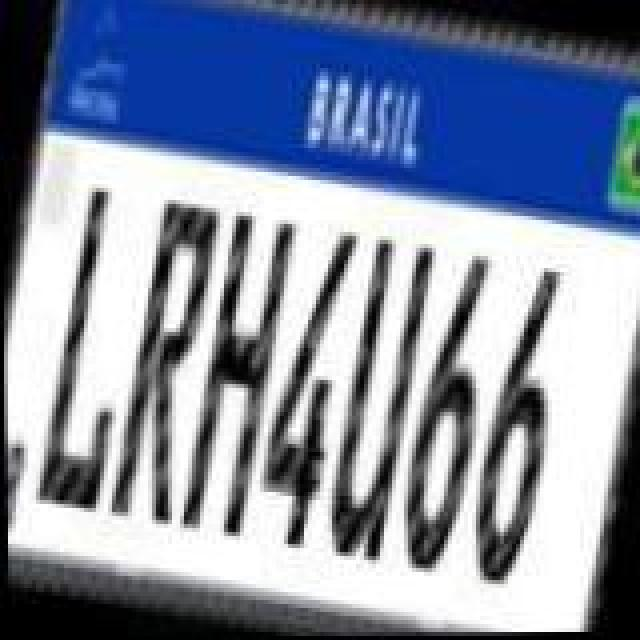4: (242, 214, 370, 554)
6: (382, 242, 510, 582), (452, 260, 580, 600)
H: (170, 198, 302, 546)
L: (28, 180, 156, 520)
R: (100, 188, 228, 532)
U: (310, 230, 438, 570)
